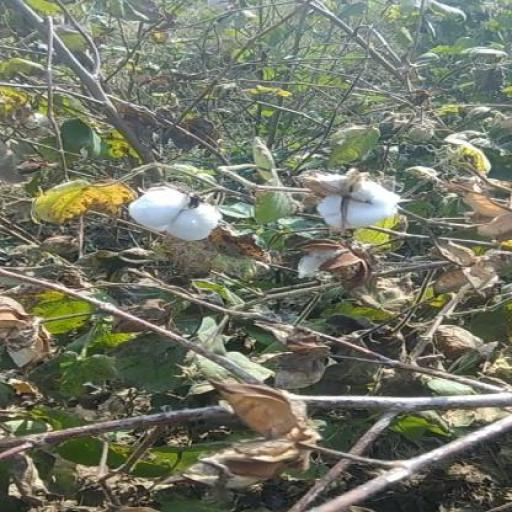cotton_ready: (314, 162, 410, 236), (118, 180, 232, 241)
